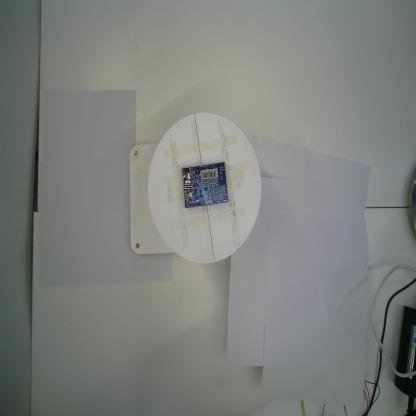Gum: (181, 161, 229, 210)
